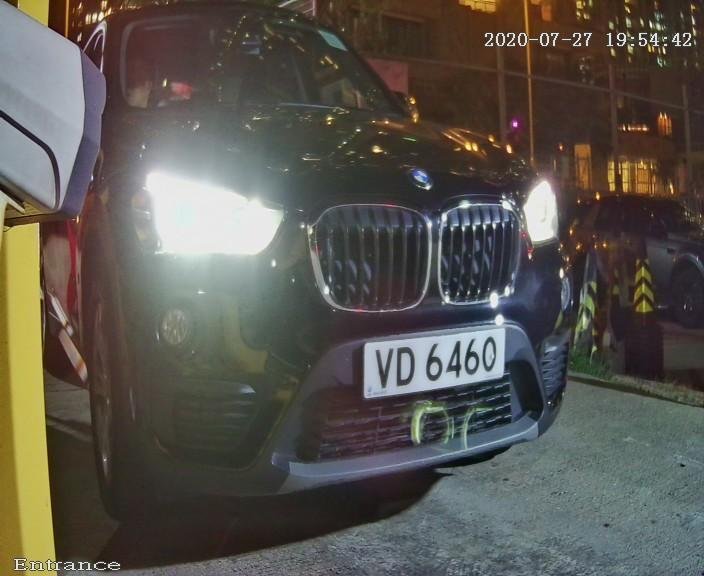privatecar: (45, 8, 595, 533)
